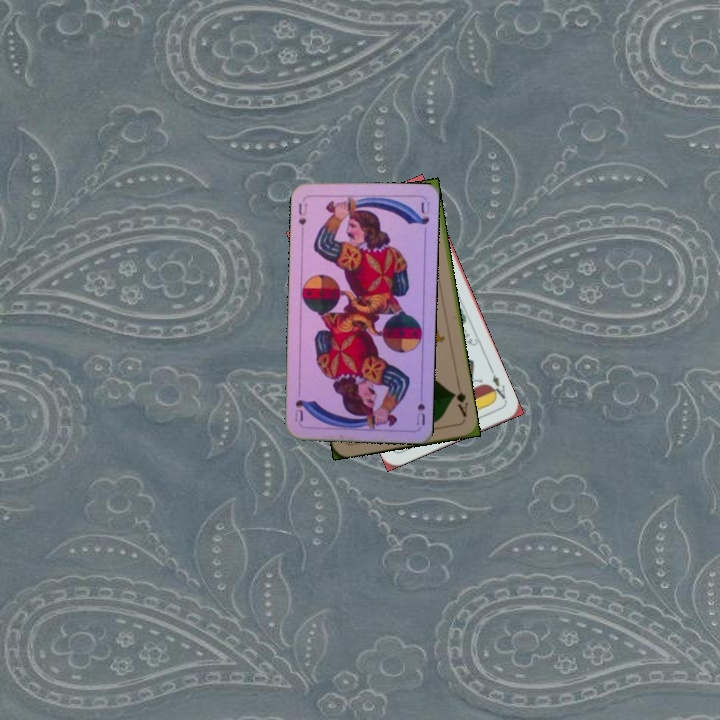EA: (485, 365, 509, 404)
GA: (448, 387, 470, 419)
SU: (412, 387, 428, 428), (294, 195, 309, 236)
